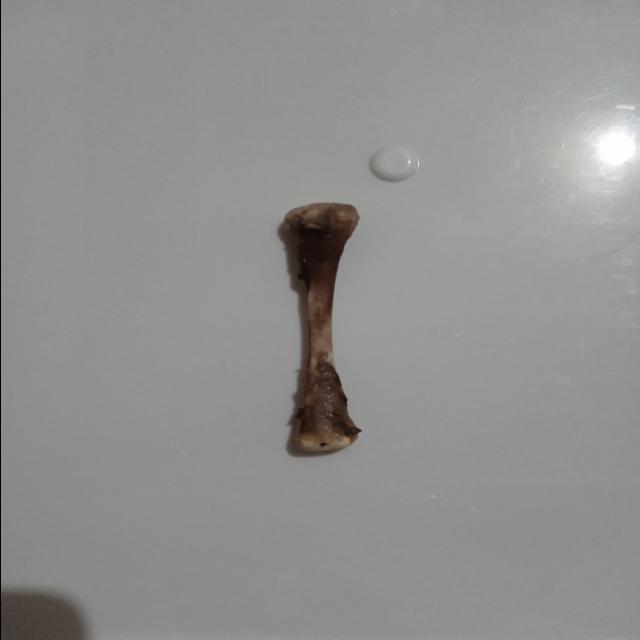bone: (276, 200, 368, 460)
